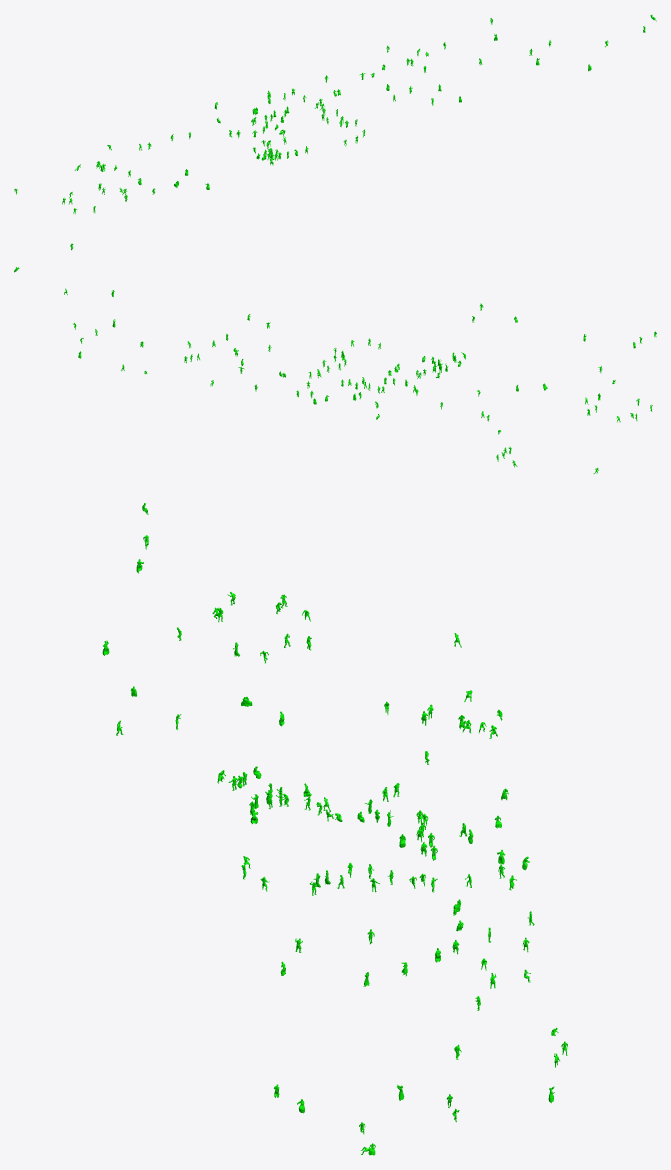
File: SM_People_Town_Low.fbx
3 views of the same model, one above another, from view 1: azimuth 30°, elevation 25°; view 2: azimuth 150°, elevation 25°; view 3: azimuth 270°, elevation 25° (orthographic). The views are drawn at different scales.
Visible parts, largest first — view 1: SM_People_Town_Low; view 2: SM_People_Town_Low; view 3: SM_People_Town_Low.
Boxes of the visible parts, box(x1,y1,x2,y2) form: SM_People_Town_Low: box(14, 14, 656, 214); SM_People_Town_Low: box(14, 243, 656, 473); SM_People_Town_Low: box(102, 503, 567, 1155).
Size of the model in its own units: 161 by 21.21 by 53.67.
